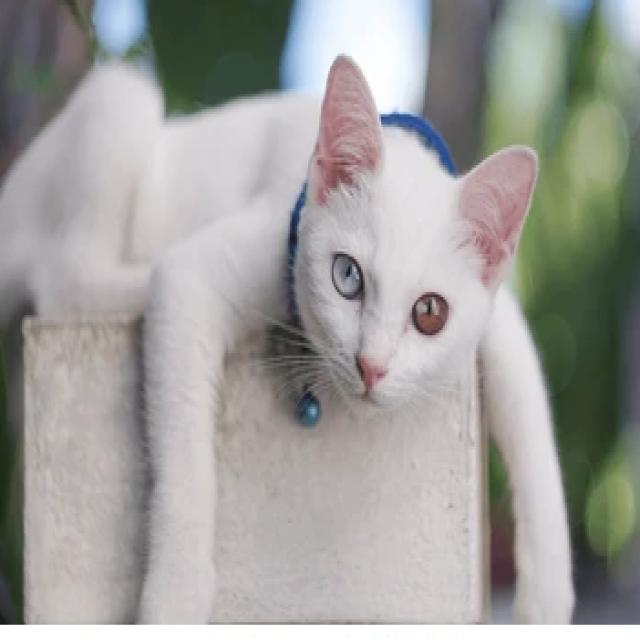Khao Manee: (0, 38, 580, 622)
